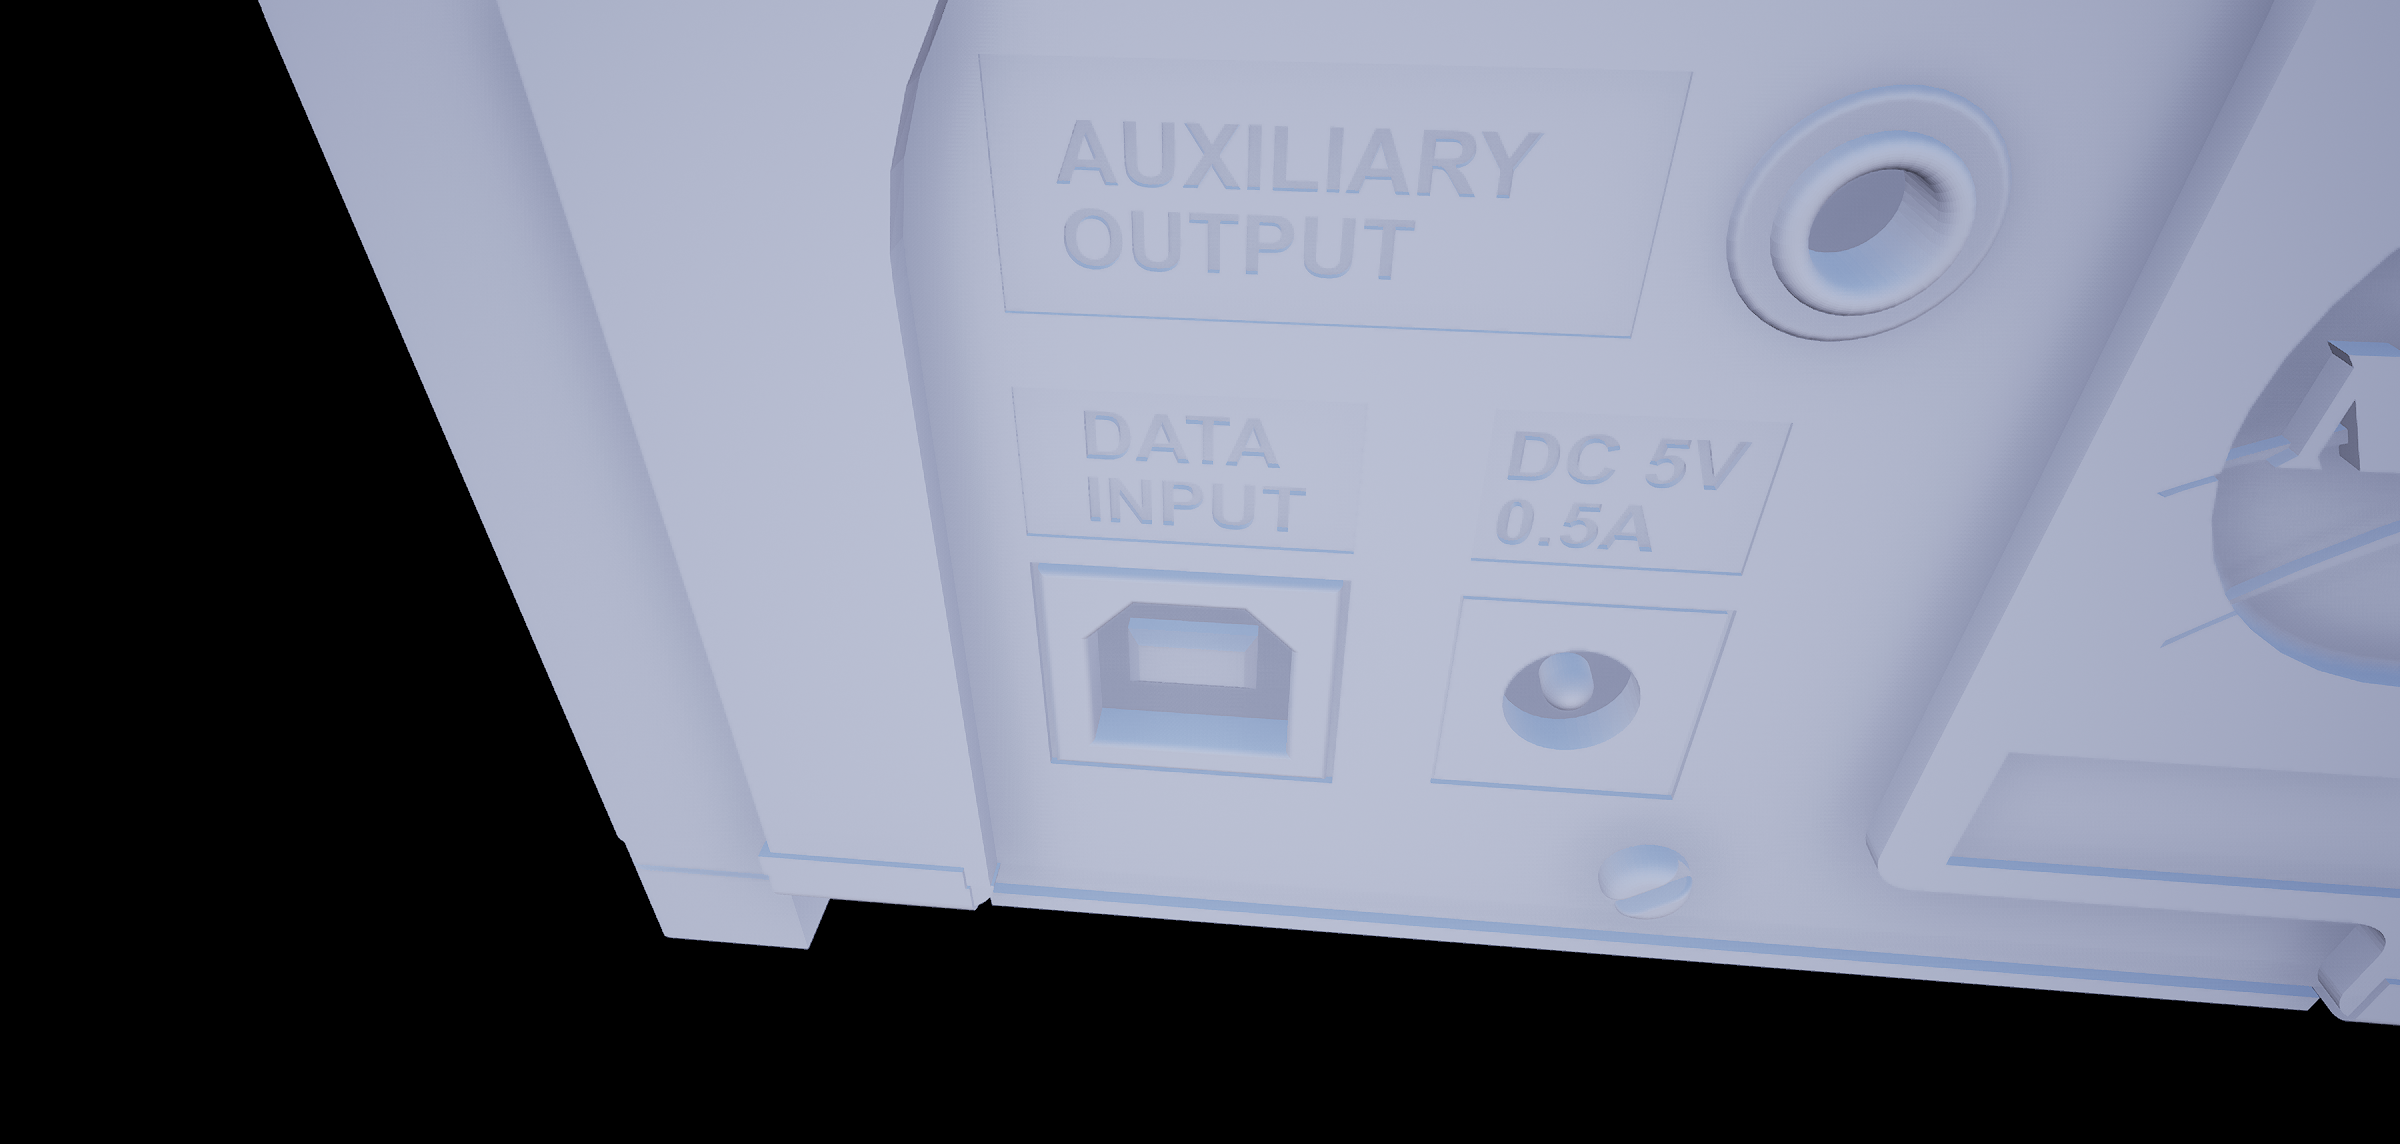aux: (1725, 66, 2033, 371)
dc: (1495, 628, 1650, 780)
usb: (1074, 591, 1313, 770)
